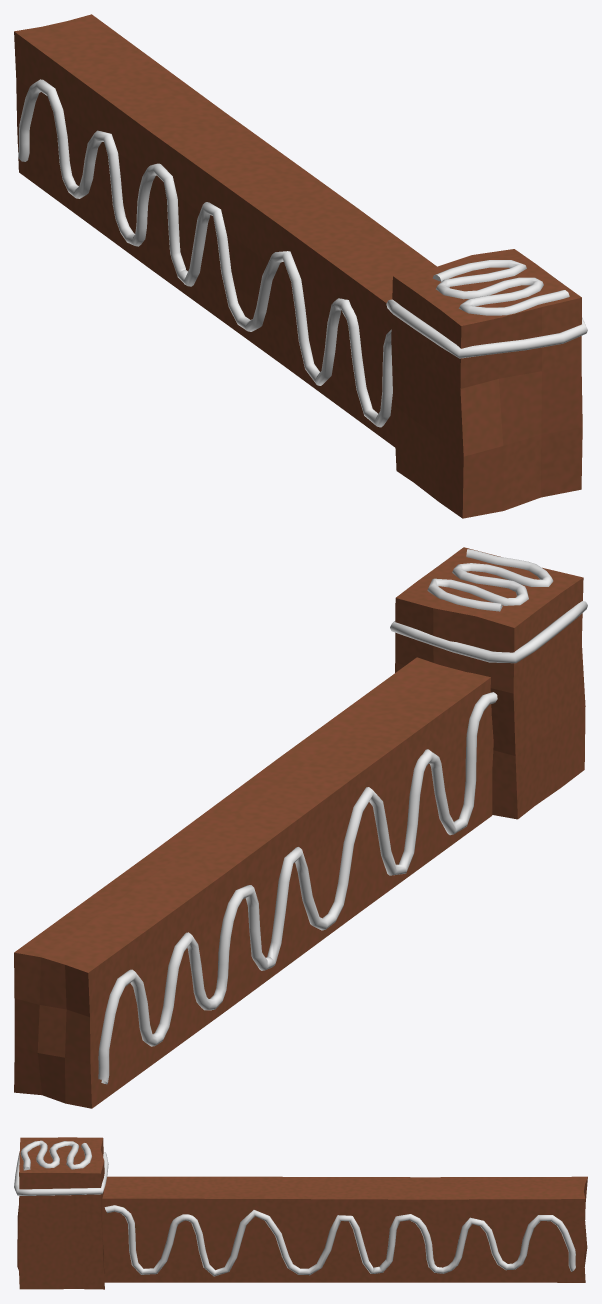
The model's file is murek.fbx.
3 views of the same model, one above another, from view 1: azimuth 30°, elevation 25°; view 2: azimuth 150°, elevation 25°; view 3: azimuth 270°, elevation 25° (orthographic). The views are drawn at different scales.
Visible parts, largest first — view 1: Murek; view 2: Murek; view 3: Murek.
Boxes of the visible parts, bbox=[...] form: Murek: bbox=[14, 14, 587, 518]; Murek: bbox=[14, 547, 587, 1108]; Murek: bbox=[14, 1137, 587, 1289].
Bounding box in the file's own units: 110 × 148 × 642.
Materials: 2 (1 with a texture image).
